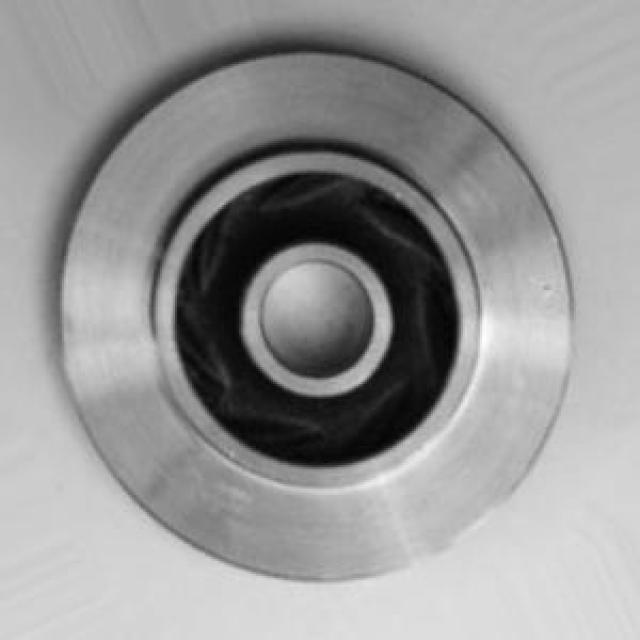Defect: (536, 273, 555, 306)
